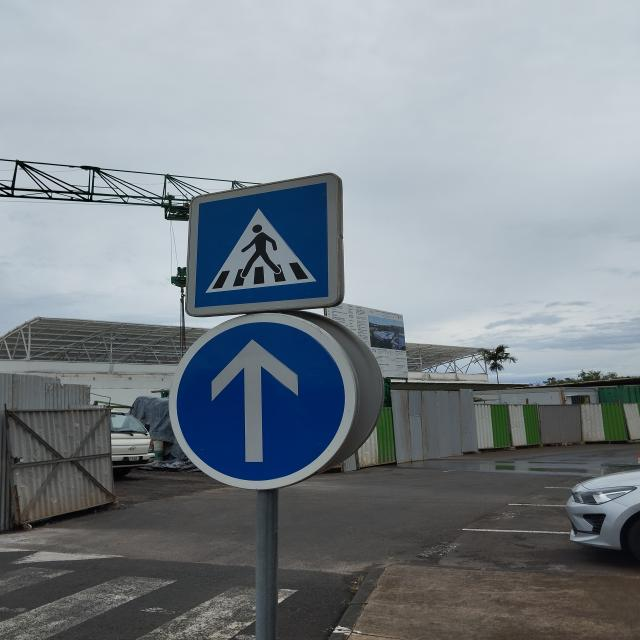Passage-pieton: (179, 176, 349, 311)
Sens-Unique: (169, 312, 360, 490)
